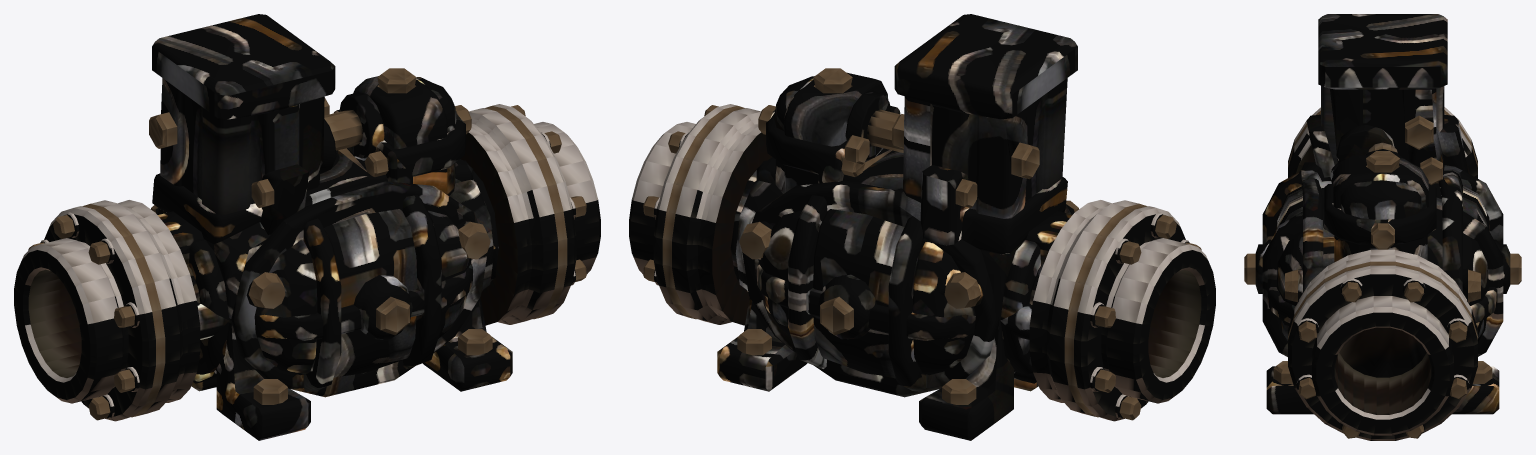
File: Pump.fbx
3 views of the same model, side by side, from view 1: azimuth 30°, elevation 25°; view 2: azimuth 150°, elevation 25°; view 3: azimuth 270°, elevation 25° (orthographic). The views are drawn at different scales.
Visible parts, largest first — view 1: tripo_convert_23e97eb0_8bde_402a_bfff_ac4c4e33ca50; view 2: tripo_convert_23e97eb0_8bde_402a_bfff_ac4c4e33ca50; view 3: tripo_convert_23e97eb0_8bde_402a_bfff_ac4c4e33ca50.
Boxes of the visible parts, x1,y1,x2,y2 form: tripo_convert_23e97eb0_8bde_402a_bfff_ac4c4e33ca50: [14, 14, 600, 440]; tripo_convert_23e97eb0_8bde_402a_bfff_ac4c4e33ca50: [629, 14, 1215, 440]; tripo_convert_23e97eb0_8bde_402a_bfff_ac4c4e33ca50: [1244, 14, 1521, 440].
Size of the model in its own units: 0.998 by 0.6201 by 0.5352.
